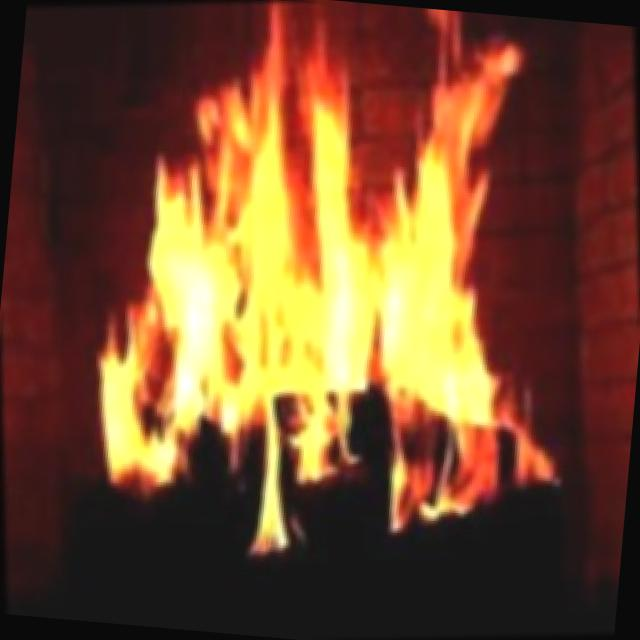fire: (17, 0, 610, 597)
